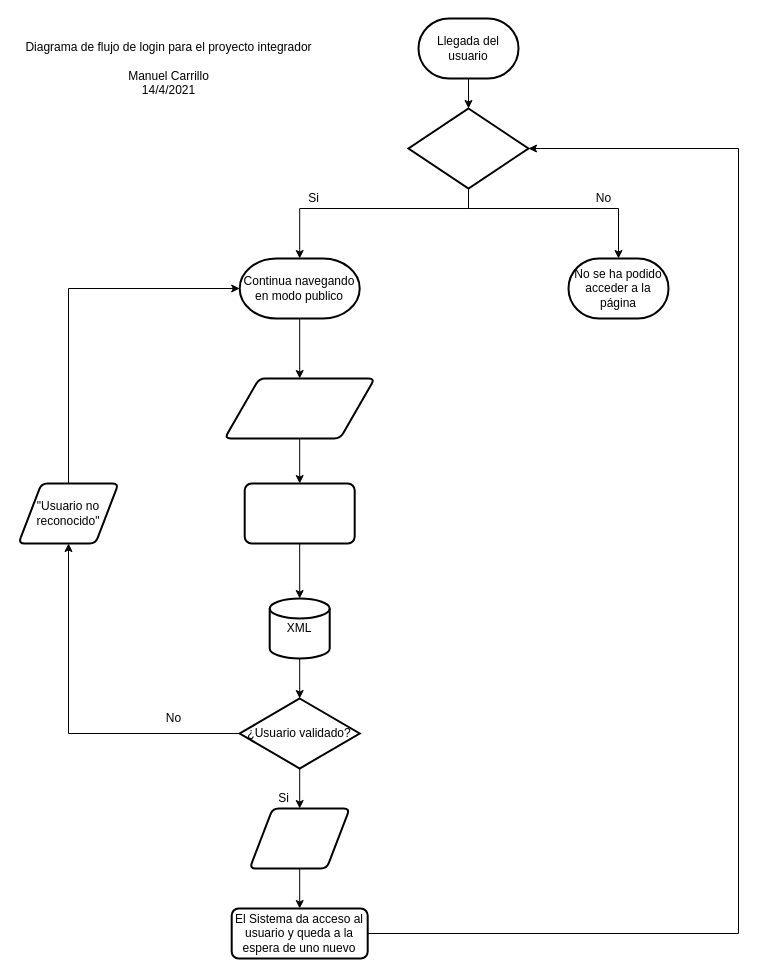
Image size: 764x976. Some labels were removed from this diagram. The box of each missing label's shape, as (x1, y1, x2, y2) in pixels:
"Bienvenido": (248, 807, 350, 869)
Comprobar Usuario y contraseña: (243, 482, 355, 544)
Ingresa Usuario y contraseña: (223, 377, 375, 439)
¿La página esta online?: (407, 107, 529, 189)
